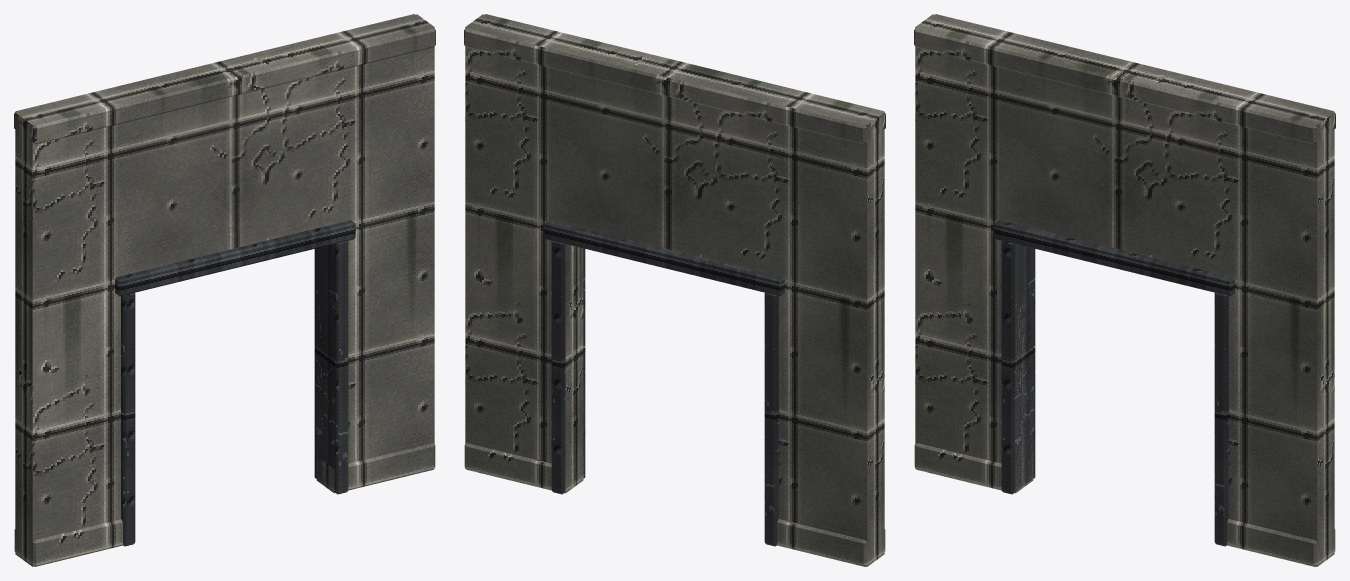
Rendered from wall_concrete_window.glb.
The picture shows the model from 3 angles, left to right: view 1: azimuth 30°, elevation 25°; view 2: azimuth 150°, elevation 25°; view 3: azimuth 330°, elevation 25°; orthographic projection.
Parts seen in each view (by area): view 1: wall_concrete_window_mesh, wall_concrete_window_col-colonly.001, wall_concrete_window_col-colonly.002; view 2: wall_concrete_window_mesh, wall_concrete_window_col-colonly.001, wall_concrete_window_col-colonly.002; view 3: wall_concrete_window_mesh, wall_concrete_window_col-colonly.001, wall_concrete_window_col-colonly.002.
Boxes of the visible parts, left/top/right/bottom form: wall_concrete_window_mesh: left=14, top=14, right=435, bottom=566; wall_concrete_window_col-colonly.001: left=316, top=14, right=434, bottom=493; wall_concrete_window_col-colonly.002: left=116, top=39, right=334, bottom=272; wall_concrete_window_mesh: left=464, top=14, right=885, bottom=566; wall_concrete_window_col-colonly.001: left=465, top=14, right=583, bottom=493; wall_concrete_window_col-colonly.002: left=565, top=39, right=783, bottom=272; wall_concrete_window_mesh: left=914, top=14, right=1335, bottom=566; wall_concrete_window_col-colonly.001: left=1216, top=88, right=1334, bottom=566; wall_concrete_window_col-colonly.002: left=1015, top=39, right=1233, bottom=272.
Size of what is drawn, in the model's own units: 4 by 4.2 by 0.44.
2 materials, 2 textured.
